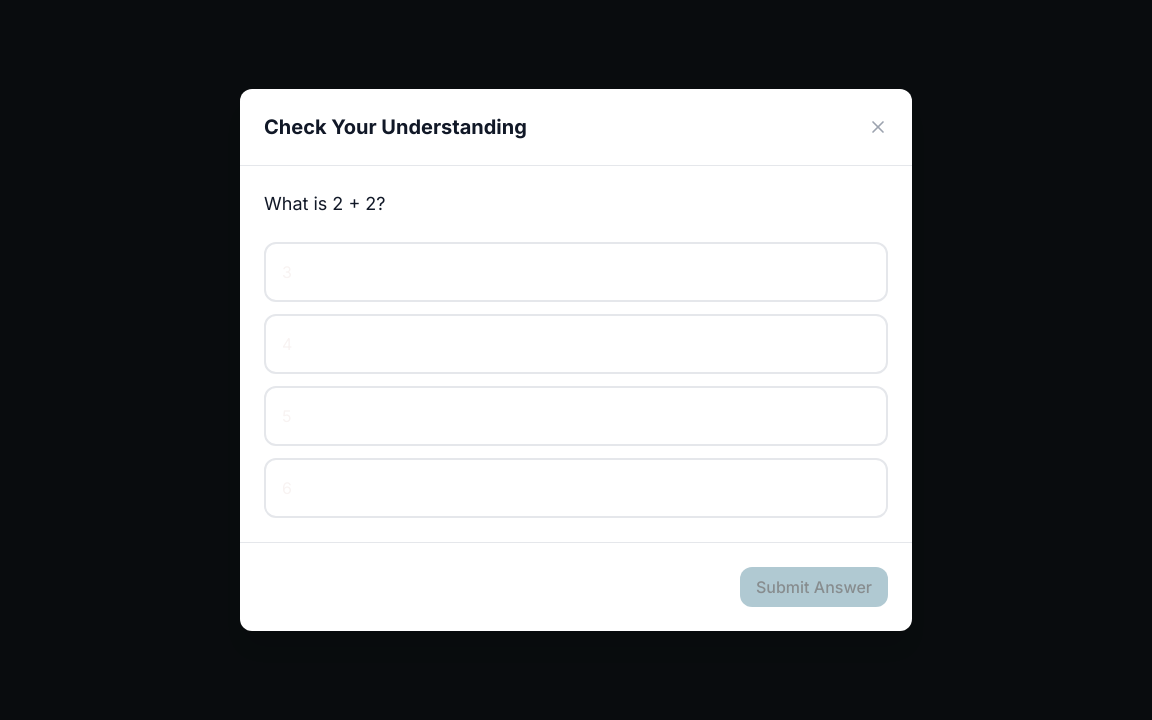
Test: EmbeddedQuestionModal › should show incorrect result after wrong submission
The image size is (1152, 720).
Click the button "3".
click(287, 272)  # box [264,242,888,302]
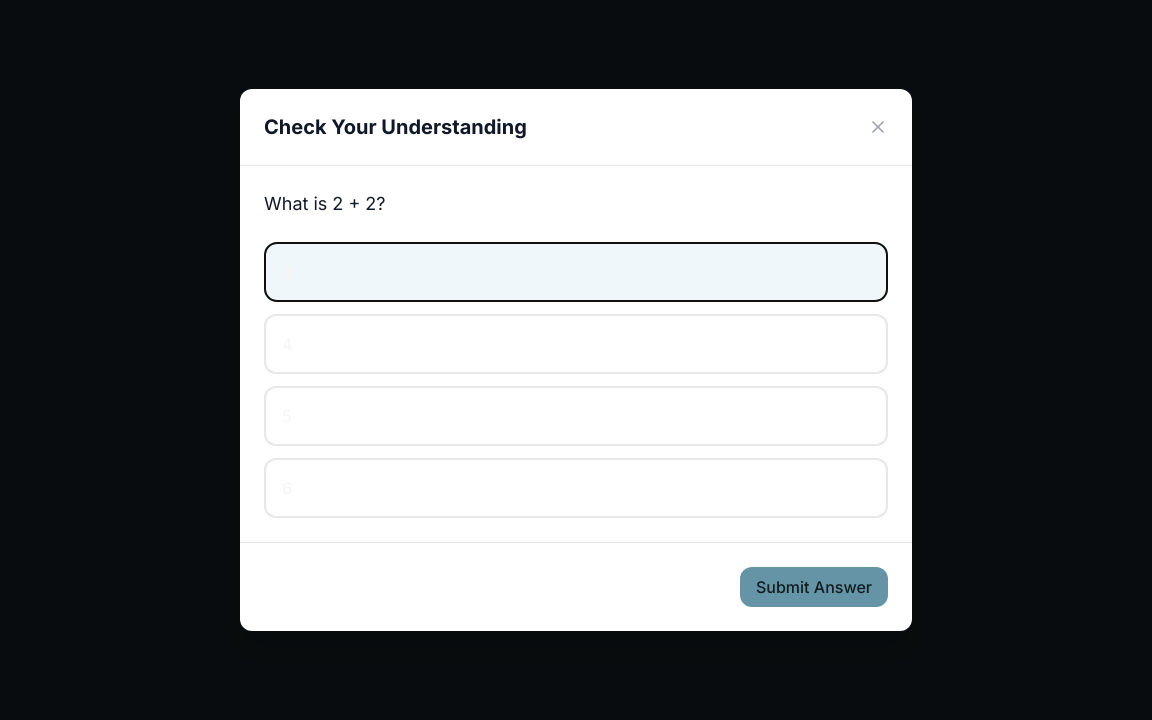
Click the button "Submit Answer".
click(814, 587)  # box [740,567,888,607]
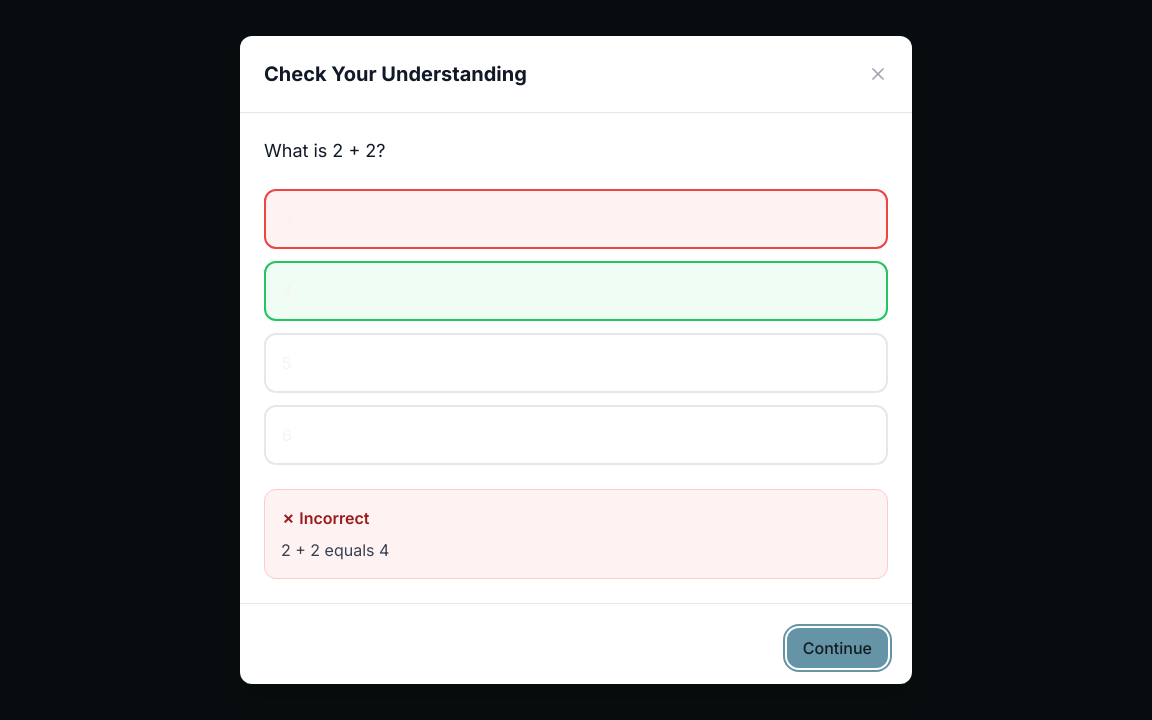
Expected: the text "✗ Incorrect" is shown, [281,508,369,528]
